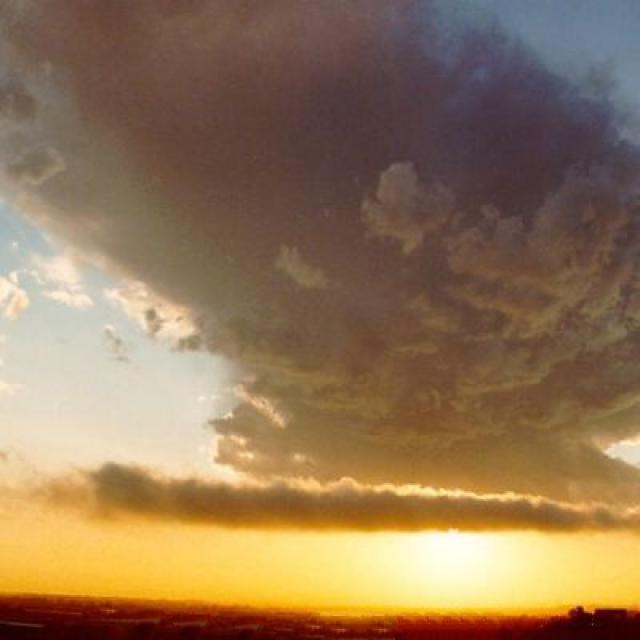St: (1, 7, 640, 492)
